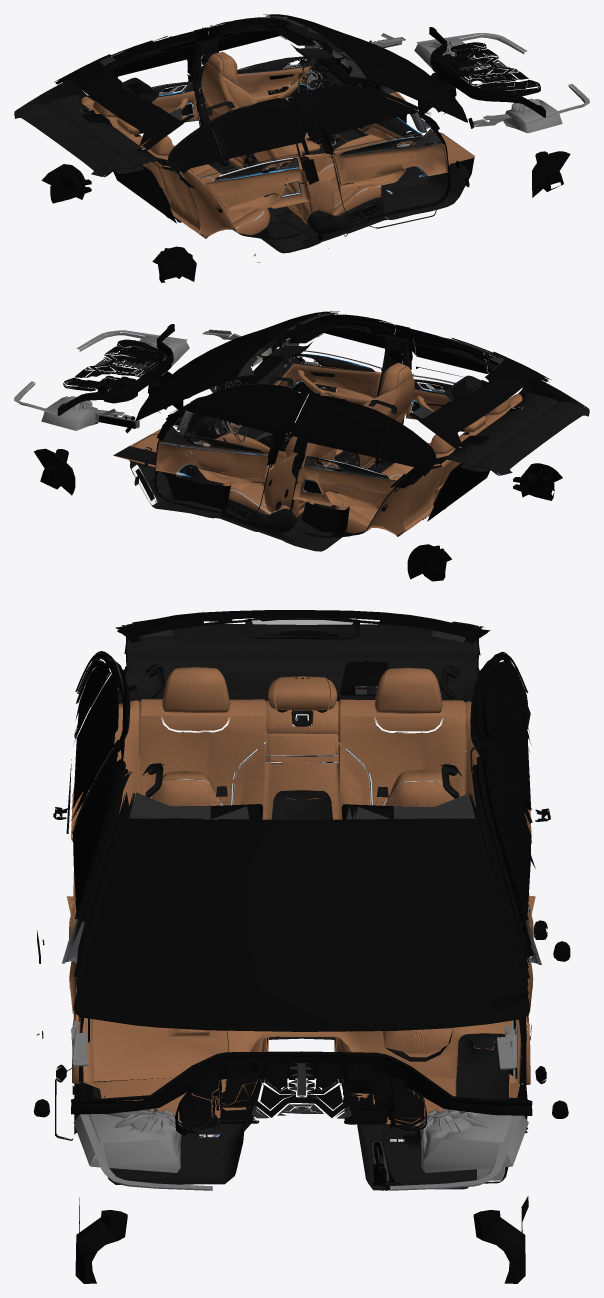
The model's file is m5_int.glb.
3 views of the same model, one above another, from view 1: azimuth 30°, elevation 25°; view 2: azimuth 150°, elevation 25°; view 3: azimuth 270°, elevation 25° (orthographic). The views are drawn at different scales.
Parts seen in each view (by area): view 1: body; view 2: body; view 3: body.
Part boxes in pixels (x1,y1,x2,y2): body: (14, 14, 589, 282); body: (14, 311, 589, 581); body: (33, 610, 570, 1283).
Size of the model in its own units: 3.85 by 1.18 by 1.8.
57 materials, 32 textured.
